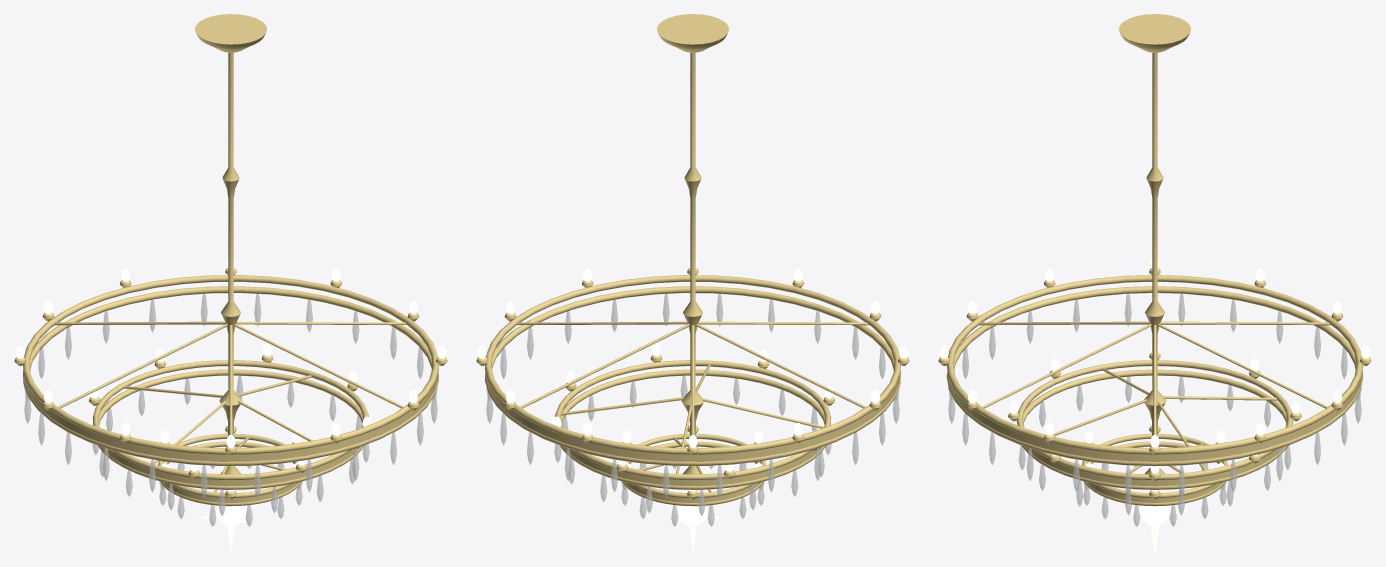
File: atelier_grand_chandelier.glb
3 views of the same model, side by side, from view 1: azimuth 30°, elevation 25°; view 2: azimuth 150°, elevation 25°; view 3: azimuth 270°, elevation 25° (orthographic).
Visible parts, largest first — view 1: Chandelier_BrassFrame, Chandelier_CrystalPrisms, Chandelier_WarmGlobes, Chandelier_SeelenfunkeStar; view 2: Chandelier_BrassFrame, Chandelier_CrystalPrisms, Chandelier_WarmGlobes, Chandelier_SeelenfunkeStar; view 3: Chandelier_BrassFrame, Chandelier_CrystalPrisms, Chandelier_WarmGlobes, Chandelier_SeelenfunkeStar.
Boxes of the visible parts, x1=… form: Chandelier_BrassFrame: x1=14, y1=14, x2=447, y2=506; Chandelier_CrystalPrisms: x1=24, y1=294, x2=437, y2=526; Chandelier_WarmGlobes: x1=15, y1=258, x2=446, y2=491; Chandelier_SeelenfunkeStar: x1=202, y1=504, x2=259, y2=552; Chandelier_BrassFrame: x1=476, y1=14, x2=909, y2=506; Chandelier_CrystalPrisms: x1=486, y1=294, x2=899, y2=526; Chandelier_WarmGlobes: x1=477, y1=258, x2=908, y2=491; Chandelier_SeelenfunkeStar: x1=664, y1=504, x2=721, y2=552; Chandelier_BrassFrame: x1=938, y1=14, x2=1371, y2=506; Chandelier_CrystalPrisms: x1=948, y1=293, x2=1361, y2=526; Chandelier_WarmGlobes: x1=939, y1=258, x2=1370, y2=491; Chandelier_SeelenfunkeStar: x1=1121, y1=505, x2=1188, y2=552.
Bounding box in the file's own units: 4.54 × 6.06 × 4.54.
